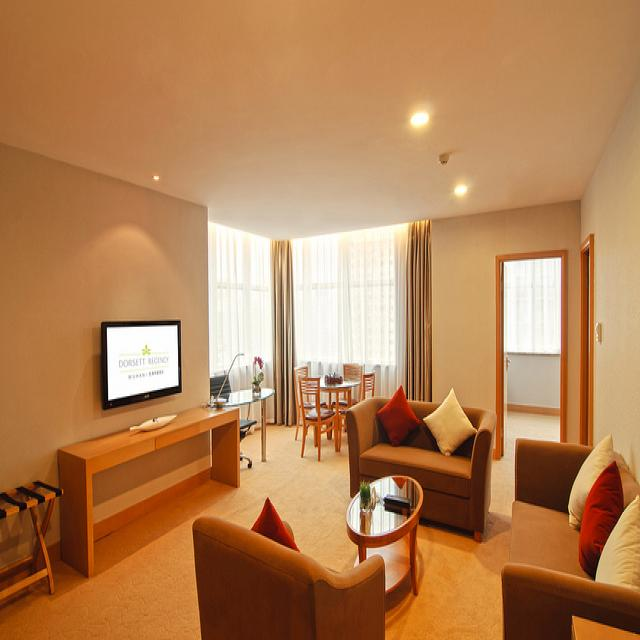chair: (196, 523, 390, 630), (210, 373, 258, 468), (297, 374, 339, 463), (339, 373, 375, 452), (332, 364, 363, 414), (292, 365, 309, 442), (325, 373, 343, 385)
dining table: (308, 372, 360, 433)
